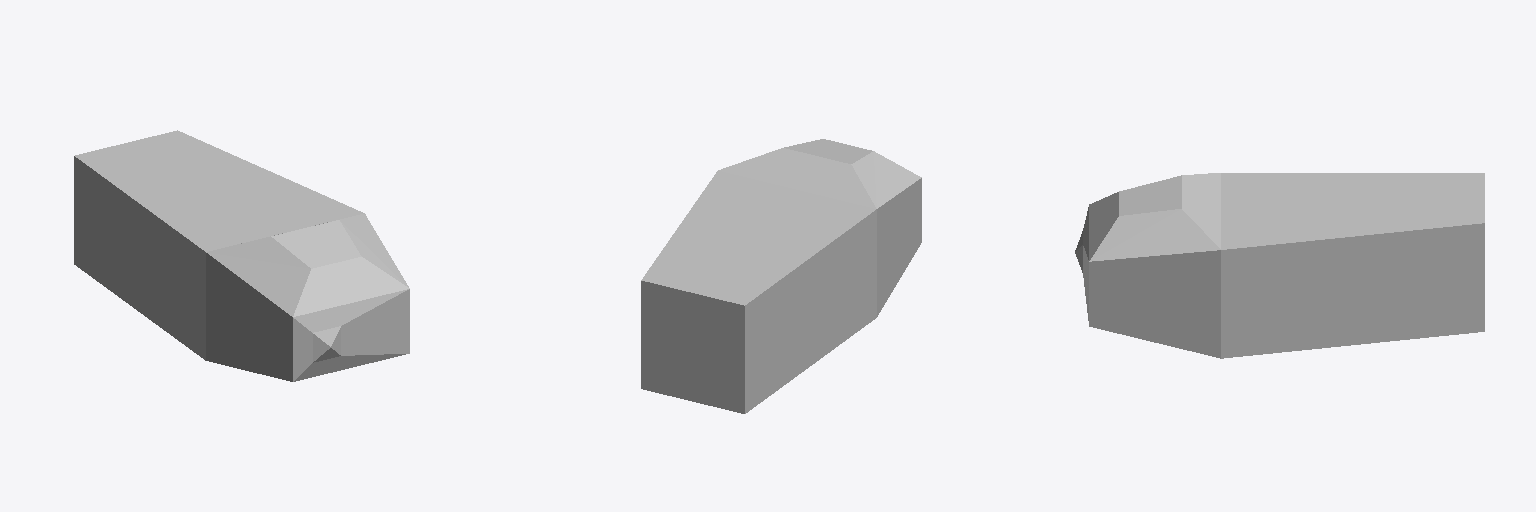
Rendered from build2.obj.
3 renders of one model, left to right at view 1: azimuth 30°, elevation 25°; view 2: azimuth 150°, elevation 25°; view 3: azimuth 270°, elevation 25°, orthographic.
Parts seen in each view (by area): view 1: pCube1; view 2: pCube1; view 3: pCube1.
Part boxes in pixels (x1,y1,x2,y2): pCube1: (74, 130, 409, 381); pCube1: (641, 139, 921, 413); pCube1: (1075, 173, 1484, 358).
Size of the model in its own units: 15.32 by 11.77 by 34.22.